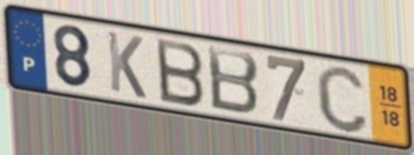7: (264, 52, 308, 123)
8: (51, 23, 95, 90)
B: (205, 43, 262, 118), (153, 36, 207, 109)
C: (314, 62, 371, 136)
K: (104, 28, 149, 102)
